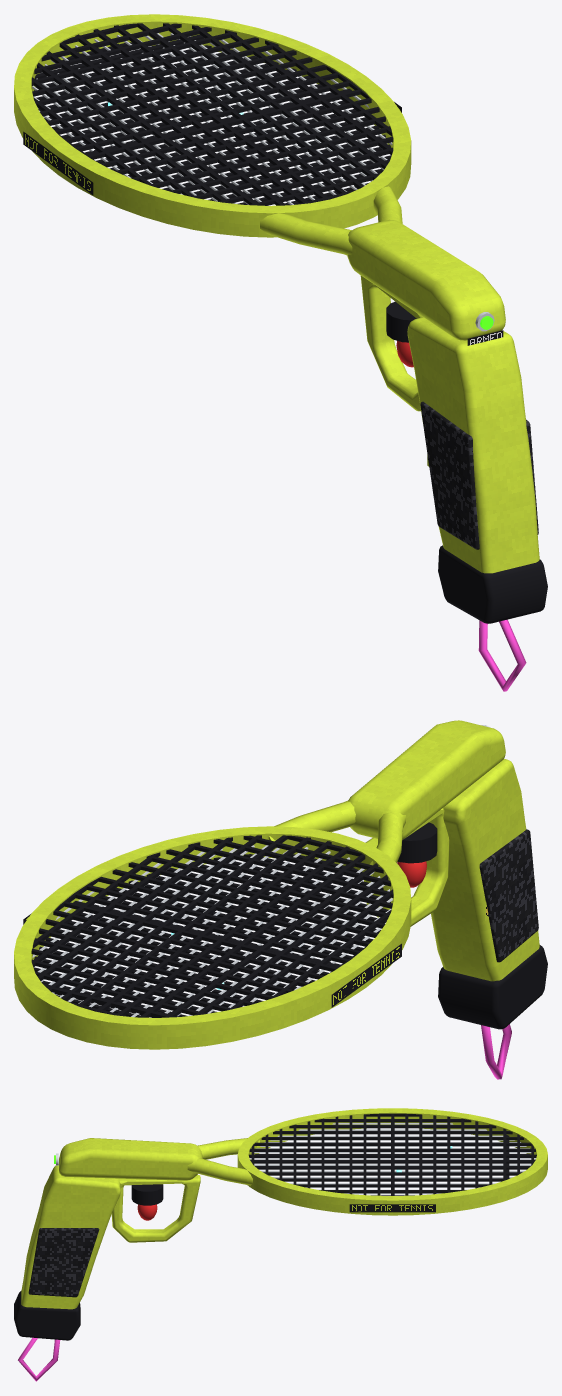
Rendered from w_taser_zapper.glb.
3 renders of one model, top to bottom at view 1: azimuth 30°, elevation 25°; view 2: azimuth 150°, elevation 25°; view 3: azimuth 270°, elevation 25°, orthographic. The views are drawn at different scales.
Visible parts, largest first — view 1: zp_body_wzB, zp_body_wzA, zp_body_wzN, zp_decals_wzN; view 2: zp_body_wzB, zp_body_wzA, zp_body_wzN, zp_decals_wzN; view 3: zp_body_wzB, zp_body_wzA, zp_body_wzN, zp_decals_wzN.
Part boxes in pixels (left/top/right/bottom): zp_body_wzB: left=14, top=14, right=547, bottom=623; zp_body_wzA: left=260, top=186, right=539, bottom=573; zp_body_wzN: left=108, top=102, right=526, bottom=691; zp_decals_wzN: left=23, top=102, right=503, bottom=466; zp_body_wzB: left=14, top=725, right=547, bottom=1049; zp_body_wzA: left=268, top=720, right=539, bottom=981; zp_body_wzN: left=171, top=861, right=511, bottom=1079; zp_decals_wzN: left=23, top=902, right=488, bottom=1007; zp_body_wzB: left=14, top=1108, right=547, bottom=1340; zp_body_wzA: left=21, top=1138, right=260, bottom=1309; zp_body_wzN: left=18, top=1146, right=452, bottom=1381; zp_decals_wzN: left=349, top=1204, right=435, bottom=1212.
Bounding box in the file's own units: 0.1726 × 0.2056 × 0.42.
Materials: 11 (5 with a texture image).
